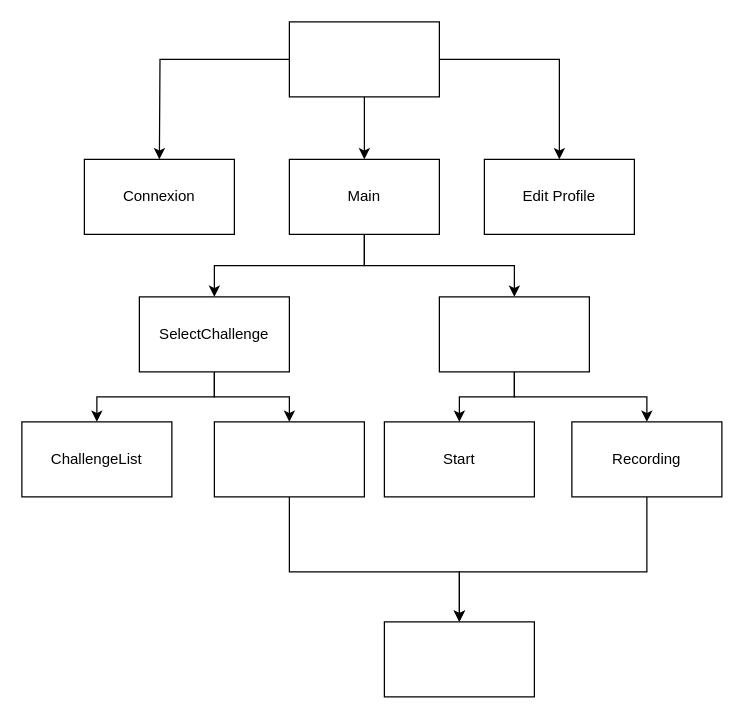
The diagram is 744 pixels wide and 719 high, and some of its shapes have lost their labels. Here are the shapes that lost their labels. From the top down, the box of each, then its label:
(288, 21, 439, 97): StackNavigator
(438, 296, 589, 372): GO
(213, 421, 364, 497): ChallengeCard
(383, 621, 534, 697): ChallengeMap
